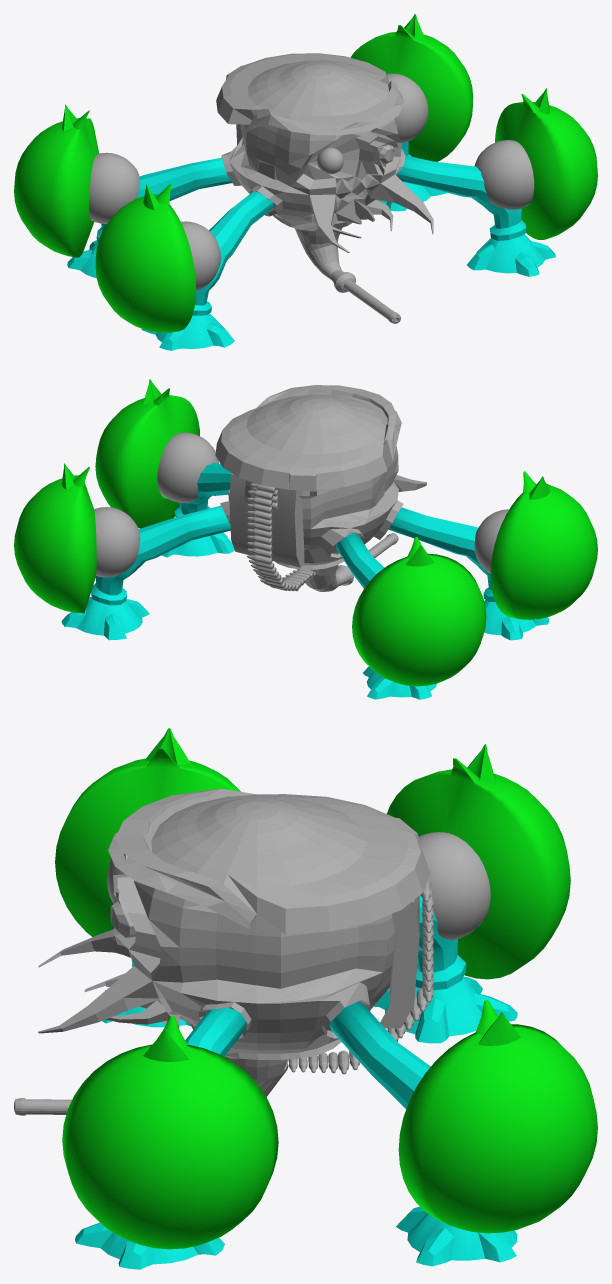
Rendered from tank.fbx.
3 views of the same model, one above another, from view 1: azimuth 30°, elevation 25°; view 2: azimuth 150°, elevation 25°; view 3: azimuth 270°, elevation 25° (orthographic). The views are drawn at different scales.
Visible parts, largest first — view 1: polySurface7, polySurface49, polySurface47, polySurface51, polySurface45, polySurface8, polySurface46, polySurface50, polySurface15, polySurface9, polySurface2, polySurface16 (+5 smaller); view 2: polySurface7, polySurface51, polySurface49, polySurface45, polySurface47, polySurface42, polySurface1, polySurface46, polySurface15, polySurface44, polySurface43, polySurface8 (+5 smaller); view 3: polySurface7, polySurface47, polySurface45, polySurface51, polySurface49, polySurface50, polySurface42, polySurface43, polySurface3, polySurface1, polySurface9, polySurface2 (+1 smaller).
Part boxes in pixels (x1=…): polySurface7: x1=216, y1=53, x2=433, y2=323; polySurface49: x1=95, y1=183, x2=195, y2=332; polySurface47: x1=495, y1=88, x2=597, y2=239; polySurface51: x1=14, y1=104, x2=99, y2=257; polySurface45: x1=350, y1=14, x2=473, y2=161; polySurface8: x1=396, y1=155, x2=526, y2=240; polySurface46: x1=474, y1=140, x2=534, y2=209; polySurface50: x1=89, y1=152, x2=140, y2=223; polySurface15: x1=192, y1=191, x2=274, y2=315; polySurface9: x1=467, y1=234, x2=555, y2=276; polySurface2: x1=96, y1=157, x2=231, y2=242; polySurface16: x1=141, y1=313, x2=234, y2=350; polySurface7: x1=215, y1=385, x2=426, y2=591; polySurface51: x1=352, y1=537, x2=486, y2=686; polySurface49: x1=490, y1=471, x2=597, y2=619; polySurface45: x1=14, y1=463, x2=96, y2=613; polySurface47: x1=95, y1=379, x2=199, y2=528; polySurface42: x1=91, y1=505, x2=230, y2=605; polySurface1: x1=229, y1=473, x2=304, y2=567; polySurface46: x1=157, y1=432, x2=218, y2=502; polySurface15: x1=388, y1=507, x2=494, y2=601; polySurface44: x1=94, y1=507, x2=140, y2=577; polySurface43: x1=61, y1=597, x2=149, y2=640; polySurface8: x1=174, y1=462, x2=231, y2=517; polySurface7: x1=14, y1=788, x2=430, y2=1115; polySurface47: x1=62, y1=1016, x2=278, y2=1249; polySurface45: x1=398, y1=1000, x2=597, y2=1233; polySurface51: x1=387, y1=744, x2=570, y2=979; polySurface49: x1=55, y1=728, x2=240, y2=957; polySurface50: x1=418, y1=832, x2=490, y2=940; polySurface42: x1=329, y1=1001, x2=430, y2=1108; polySurface43: x1=396, y1=1206, x2=517, y2=1266; polySurface3: x1=373, y1=976, x2=517, y2=1043; polySurface1: x1=380, y1=895, x2=419, y2=1028; polySurface9: x1=75, y1=1222, x2=224, y2=1269; polySurface2: x1=415, y1=895, x2=466, y2=990.
Size of the model in its own units: 18.08 by 7.32 by 12.14.
